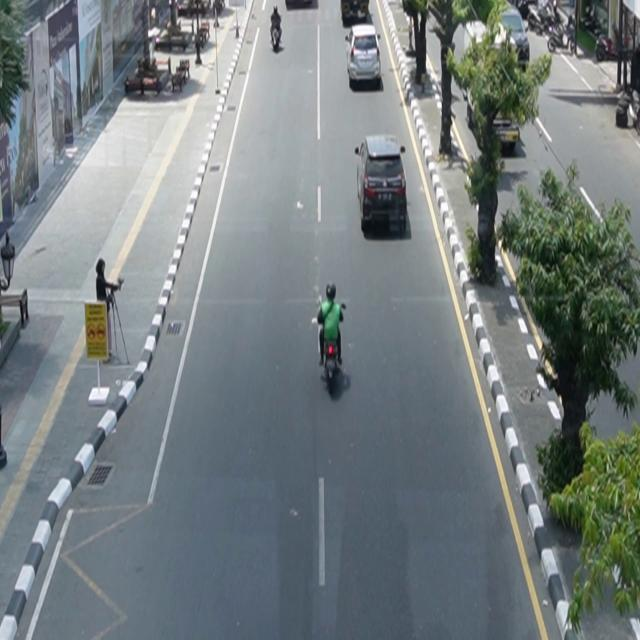car: (355, 134, 408, 235), (346, 25, 382, 86)
